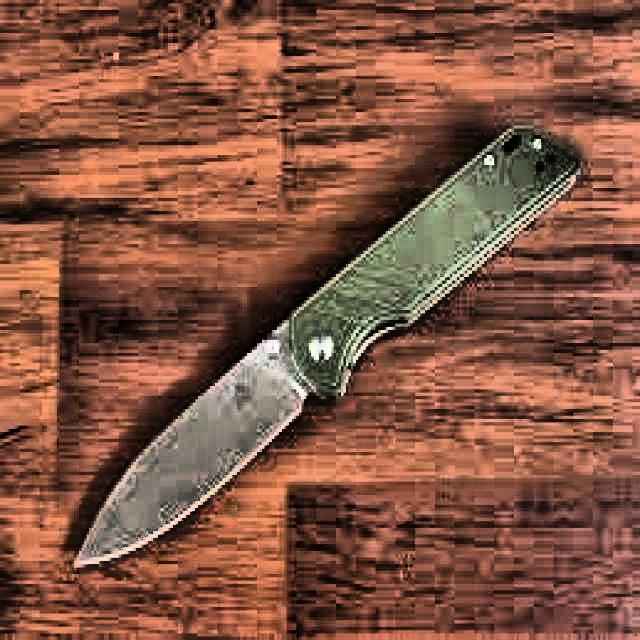knife: (68, 116, 586, 562)
